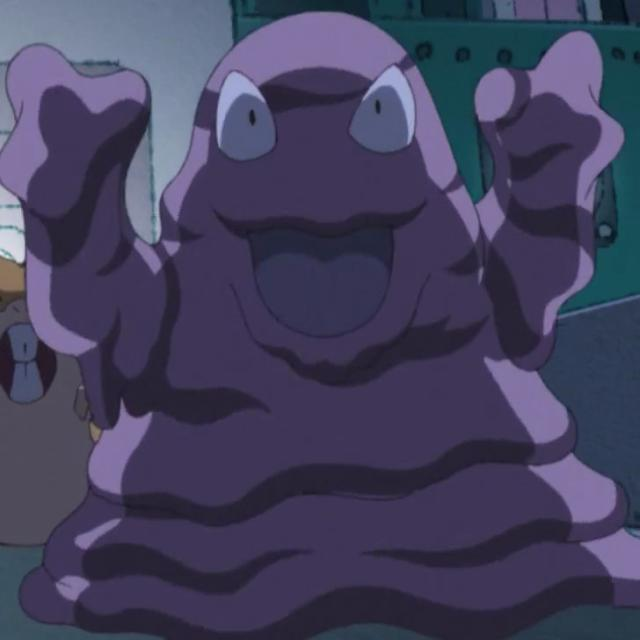Grimer: (103, 10, 522, 609)
